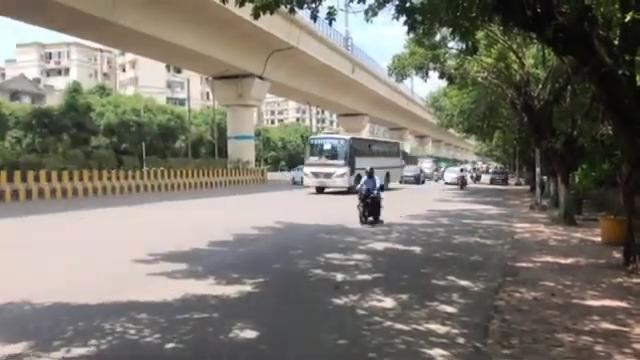Bus: (302, 133, 405, 193)
